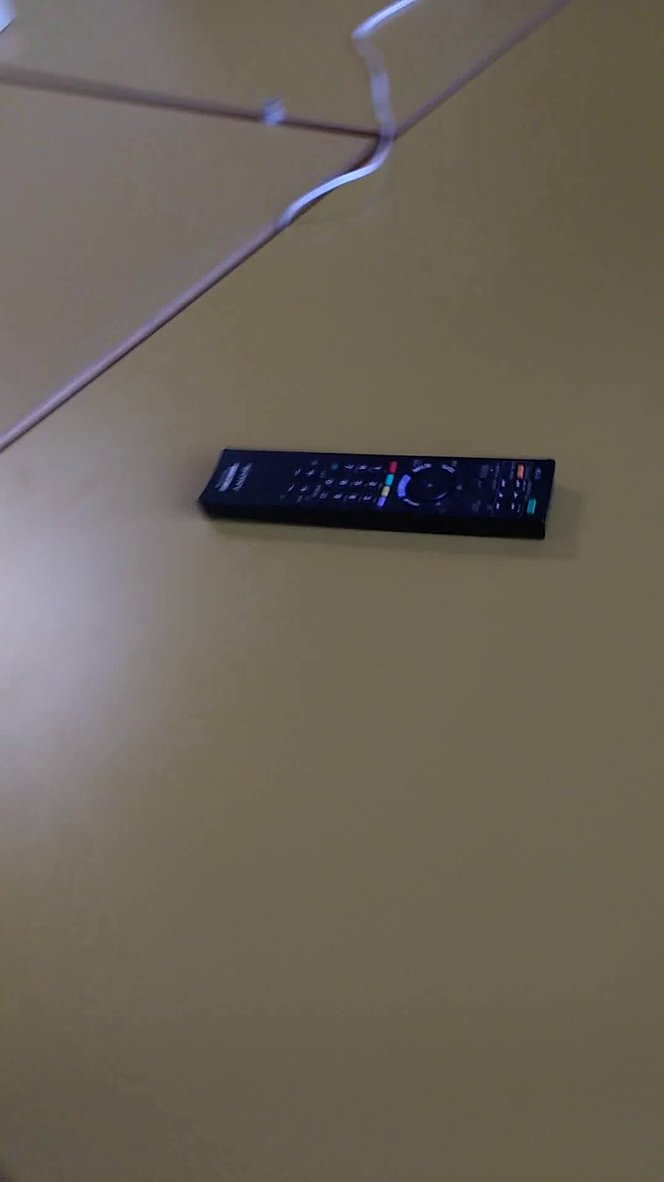remote: (162, 416, 585, 569)
